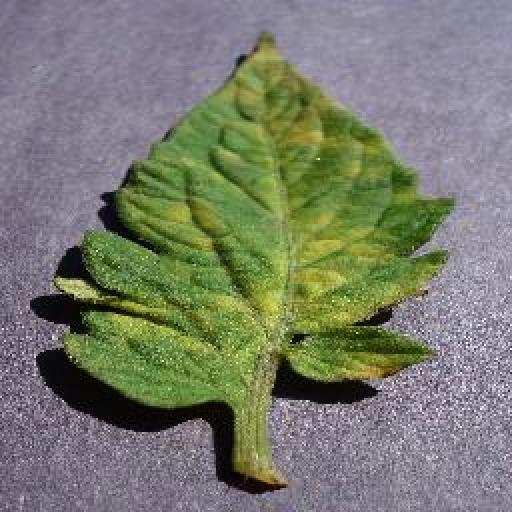disease_tomato: (56, 34, 462, 412)
